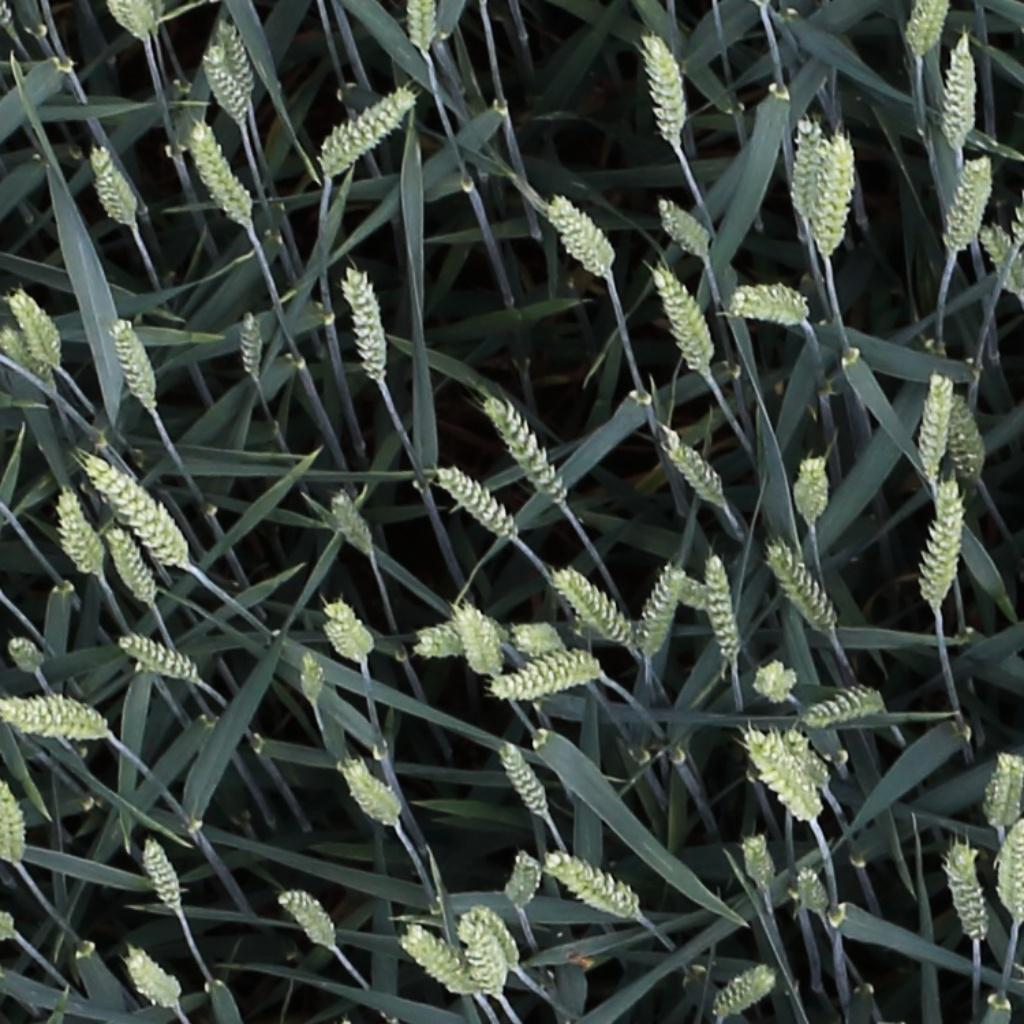0-0: (83, 454, 191, 567), (481, 391, 573, 507), (738, 713, 823, 827), (320, 86, 413, 173), (652, 262, 718, 375), (767, 537, 841, 636), (188, 117, 255, 225), (554, 567, 640, 651), (438, 465, 520, 542), (338, 262, 389, 385), (547, 854, 641, 920), (548, 191, 618, 277), (481, 655, 595, 705), (662, 425, 729, 509), (0, 687, 105, 737), (496, 738, 555, 826), (644, 30, 688, 148), (937, 31, 982, 146), (910, 368, 953, 487), (415, 611, 503, 669), (105, 522, 161, 613), (109, 312, 159, 413), (728, 272, 815, 330), (924, 476, 962, 608), (402, 925, 473, 993), (55, 486, 105, 582), (341, 757, 405, 832), (820, 128, 856, 258), (12, 270, 67, 355), (661, 564, 734, 628), (946, 153, 988, 261), (87, 140, 139, 226), (455, 900, 525, 963), (122, 942, 184, 1013), (707, 550, 744, 666), (789, 113, 823, 238), (948, 839, 988, 944), (655, 189, 715, 259), (643, 562, 685, 662), (137, 832, 185, 918), (277, 886, 339, 951), (451, 600, 498, 684), (116, 634, 199, 681), (327, 486, 378, 561), (323, 596, 376, 667), (980, 226, 1024, 308), (943, 391, 982, 483), (805, 680, 886, 724), (782, 727, 835, 794), (222, 14, 265, 96), (202, 39, 242, 125), (714, 966, 778, 1019), (0, 325, 52, 389), (899, 0, 950, 60), (791, 448, 828, 529), (509, 615, 576, 659), (986, 751, 1020, 834), (998, 821, 1024, 925), (465, 930, 501, 1002), (752, 653, 800, 707), (744, 830, 779, 898), (507, 846, 539, 918), (0, 774, 23, 871), (109, 0, 157, 45), (795, 862, 831, 921), (240, 305, 264, 382), (5, 636, 45, 677), (299, 648, 324, 711), (410, 0, 435, 58), (122, 1, 161, 38), (0, 0, 20, 35), (0, 906, 15, 933)
